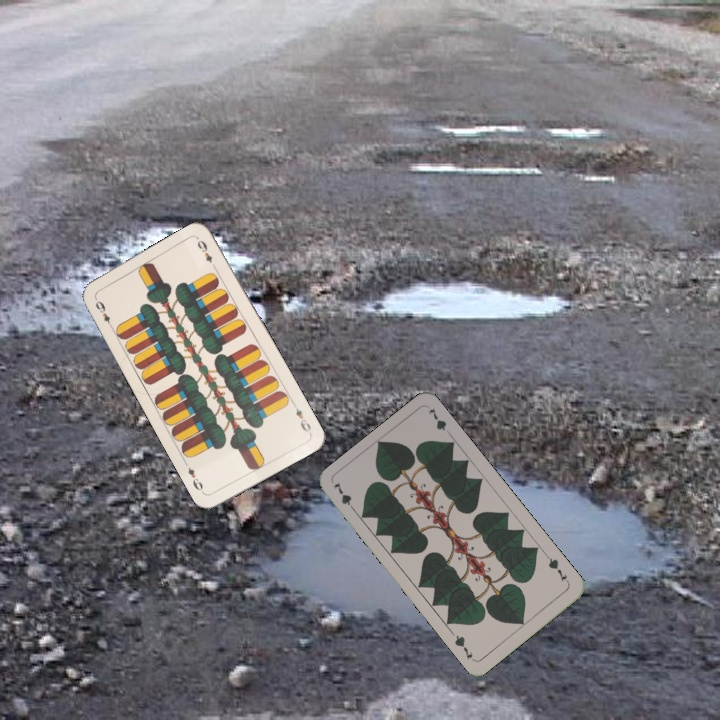E9: (288, 399, 314, 436), (90, 294, 116, 331)
G7: (329, 478, 359, 515), (542, 552, 572, 586)
